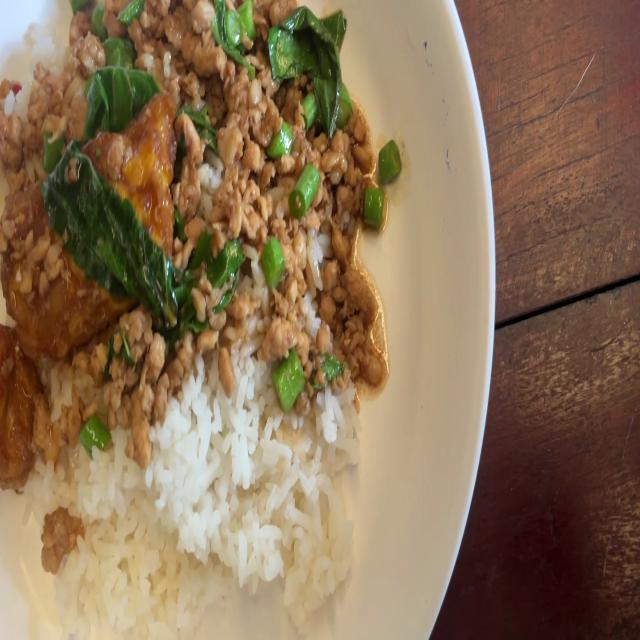01rice: (77, 385, 363, 602)
fried_tofo: (19, 104, 169, 347), (0, 330, 39, 475)
minced_pork: (153, 0, 393, 378), (10, 7, 177, 108)
stir_fried_basil: (0, 0, 392, 612)
